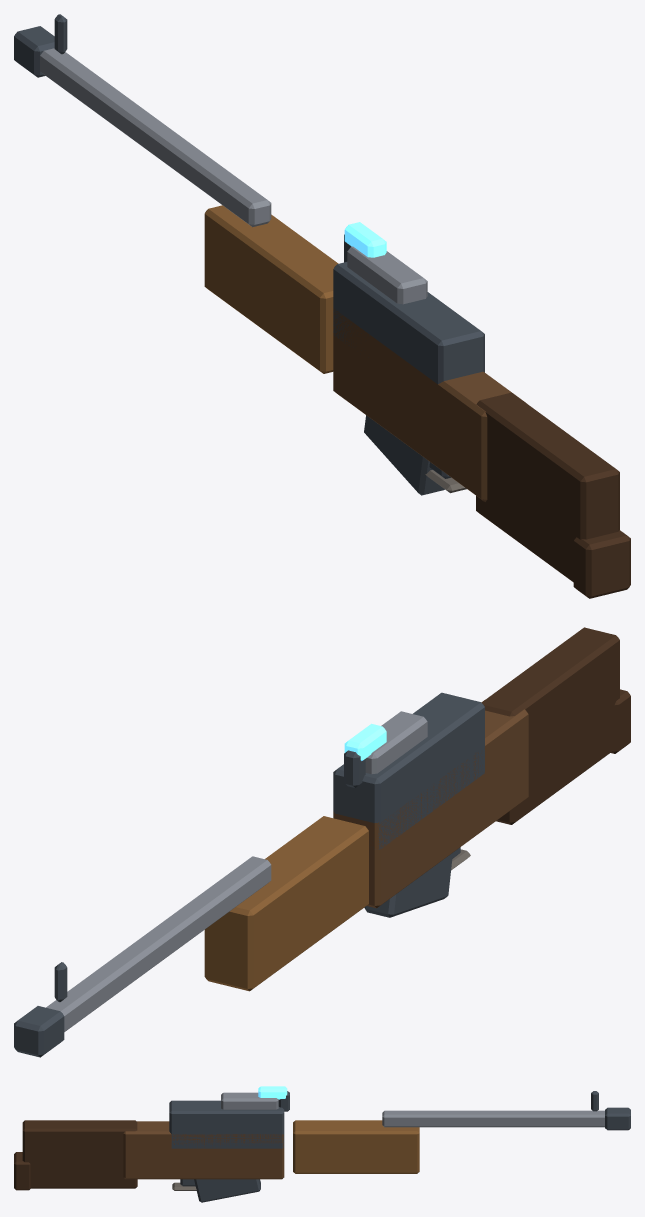
File: mdl_weapon_rifle_v1.glb
The picture shows the model from 3 angles, top to bottom: view 1: azimuth 30°, elevation 25°; view 2: azimuth 150°, elevation 25°; view 3: azimuth 270°, elevation 25°; orthographic projection. The views are drawn at different scales.
Parts seen in each view (by area): view 1: GEO_Weapon_Rifle; view 2: GEO_Weapon_Rifle; view 3: GEO_Weapon_Rifle.
Part boxes in pixels (x1,y1,x2,y2): GEO_Weapon_Rifle: [14, 14, 630, 598]; GEO_Weapon_Rifle: [14, 627, 630, 1057]; GEO_Weapon_Rifle: [14, 1086, 630, 1202].
Size of the model in its own units: 0.052 by 0.2149 by 1.07.
